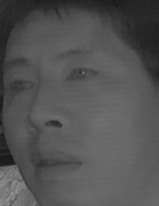eye: (65, 65, 99, 86), (8, 77, 35, 96)
mouth: (27, 143, 84, 182)
